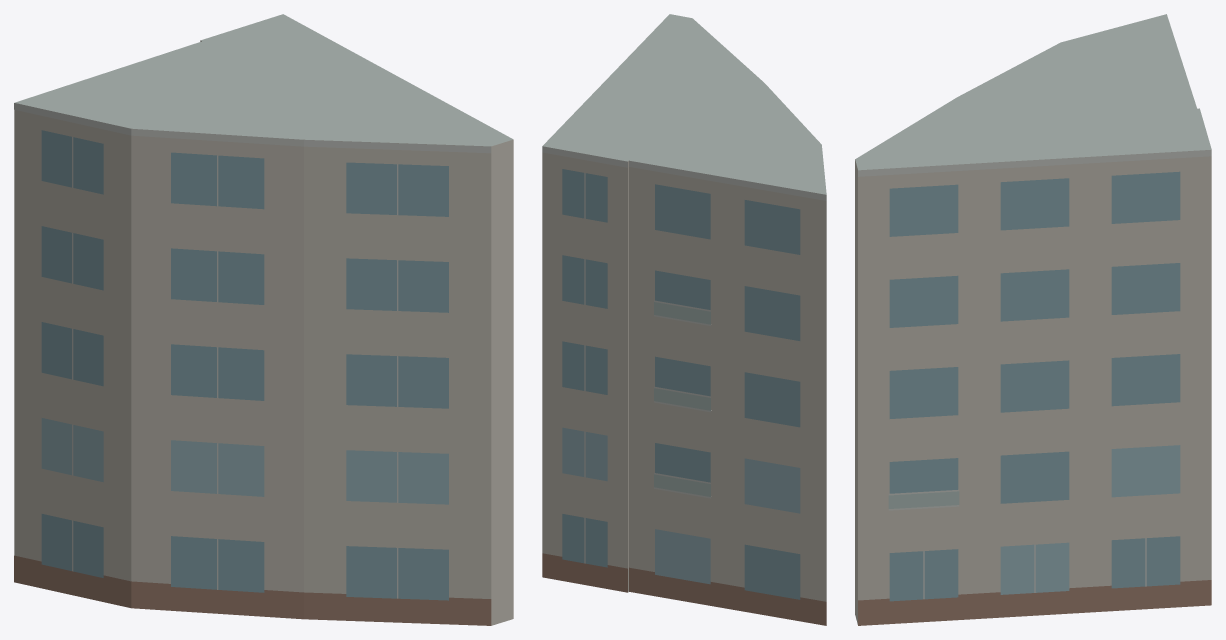
File: survey-upis-32493273.glb
3 views of the same model, side by side, from view 1: azimuth 30°, elevation 25°; view 2: azimuth 150°, elevation 25°; view 3: azimuth 270°, elevation 25° (orthographic). The views are drawn at different scales.
Visible parts, largest first — view 1: survey-upis-32493273.tmp; view 2: survey-upis-32493273.tmp; view 3: survey-upis-32493273.tmp.
Part boxes in pixels (x1=…): survey-upis-32493273.tmp: x1=14, y1=14, x2=513, y2=625; survey-upis-32493273.tmp: x1=542, y1=14, x2=826, y2=625; survey-upis-32493273.tmp: x1=855, y1=14, x2=1211, y2=625.
Bounding box in the file's own units: 12.42 × 16.87 × 11.98.
